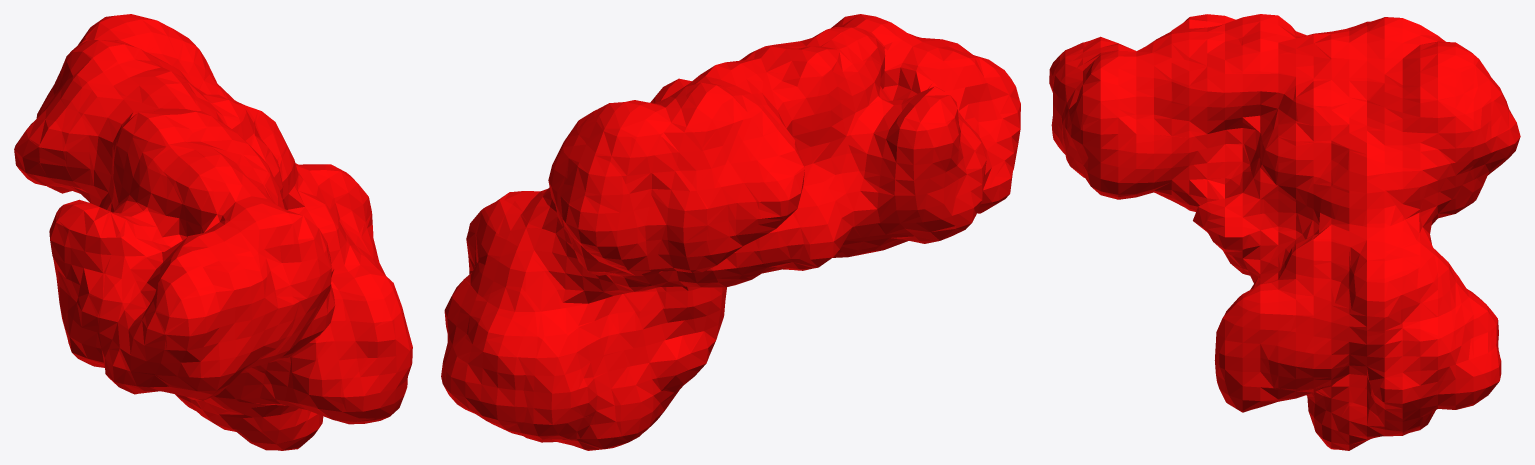
File: metF_coarse.dae
3 views of the same model, side by side, from view 1: azimuth 30°, elevation 25°; view 2: azimuth 150°, elevation 25°; view 3: azimuth 270°, elevation 25° (orthographic). The views are drawn at different scales.
Visible parts, largest first — view 1: metF; view 2: metF; view 3: metF.
Part boxes in pixels (left/top/right/bottom): metF: left=14, top=14, right=412, bottom=450; metF: left=441, top=14, right=1020, bottom=450; metF: left=1049, top=14, right=1520, bottom=450.
Size of the model in its own units: 84.86 by 82.75 by 96.77.
